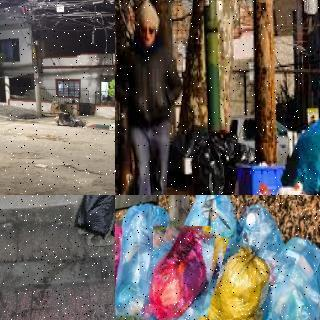Garbage: (191, 240, 288, 320), (146, 222, 217, 320), (118, 205, 173, 320), (267, 237, 320, 320), (182, 195, 238, 266), (238, 204, 285, 271), (285, 110, 320, 191), (74, 195, 115, 240), (242, 180, 284, 195), (67, 117, 88, 128), (59, 114, 76, 126)
